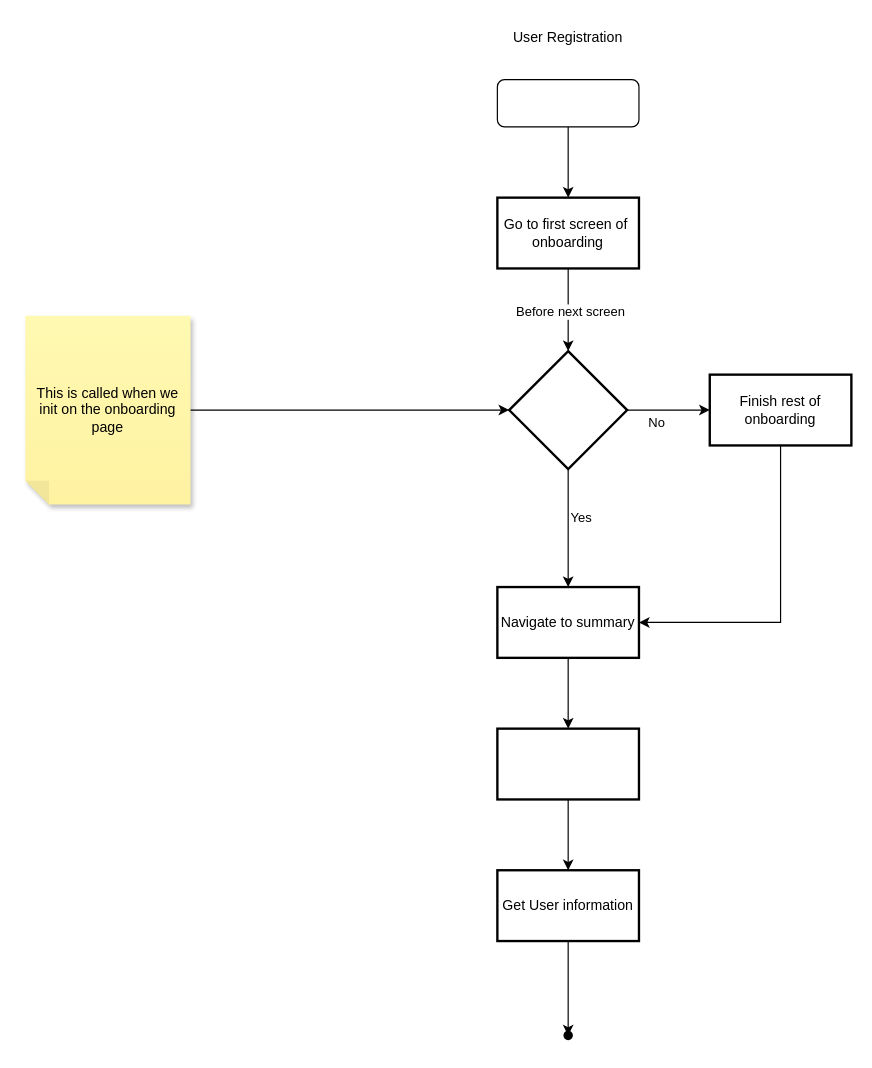
This 872x1068 diagram has some shape labels left out. The shapes that lost their labels are listed below. From the top down, each one's centre as x and y in pixels, then its label:
point 567,102: Register service calls
point 567,409: Is user invited to family
point 568,763: Call check family status
